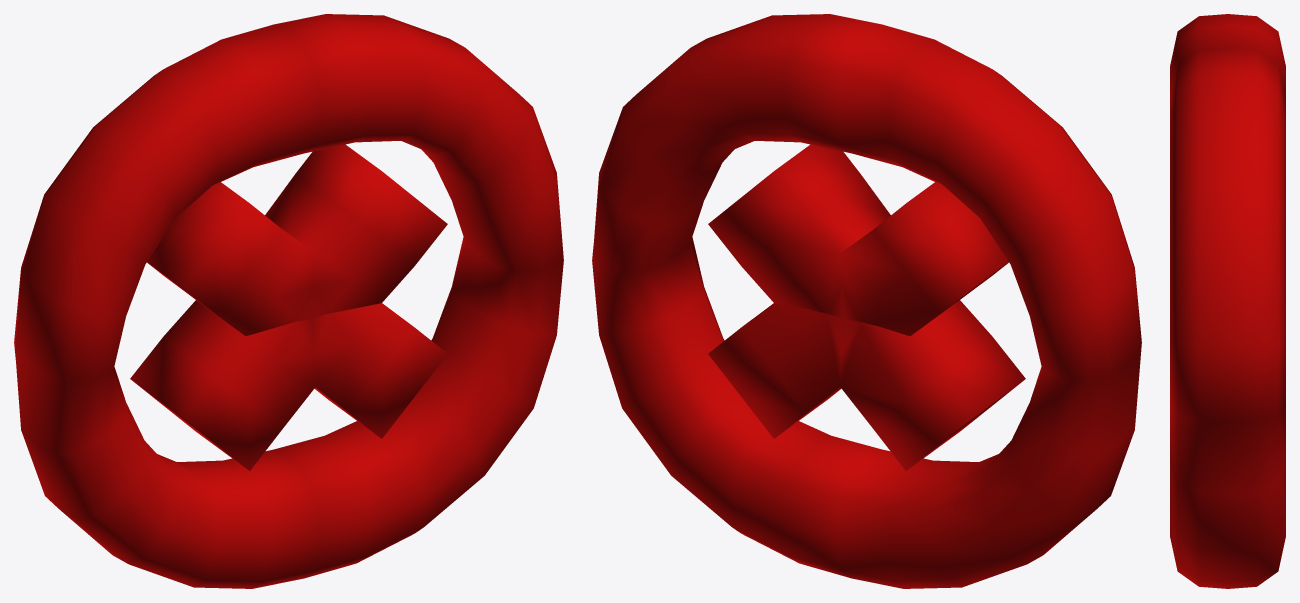
File: VectorIn.glb
3 renders of one model, left to right at view 1: azimuth 30°, elevation 25°; view 2: azimuth 150°, elevation 25°; view 3: azimuth 270°, elevation 25°, orthographic. The views are drawn at different scales.
Visible parts, largest first — view 1: VectorIn; view 2: VectorIn; view 3: VectorIn.
Part boxes in pixels (left/top/right/bottom): VectorIn: left=14, top=14, right=563, bottom=588; VectorIn: left=592, top=14, right=1141, bottom=588; VectorIn: left=1170, top=14, right=1285, bottom=588.
Bounding box in the file's own units: 0.5027 × 0.4958 × 0.1028.
